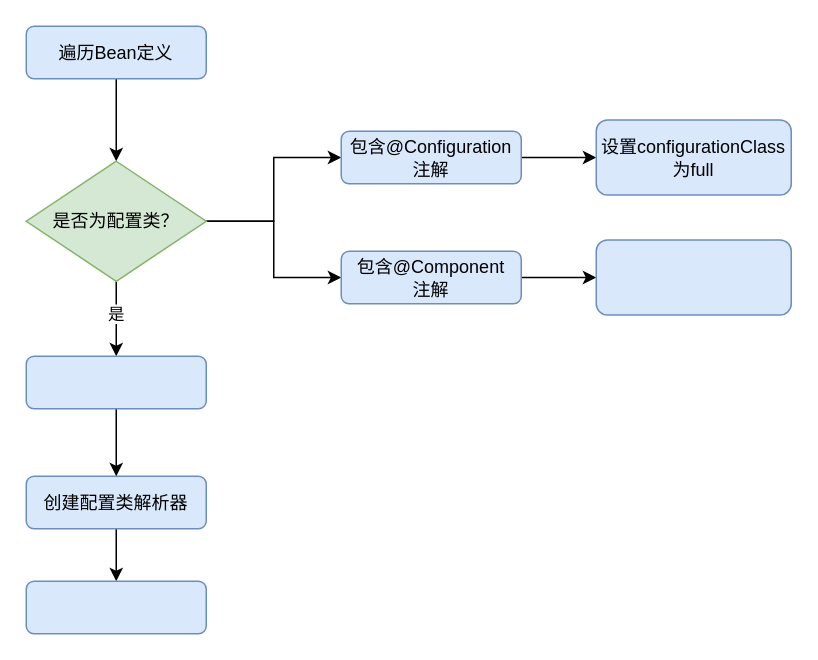
Some shapes in this 818 by 660 pixel diagram are drawn without their labels. Here are the shapes that lost their labels. From the top down, the centre of each, then its label:
At pixel 693 276: "设置configurationClass为lite".
At pixel 115 382: "收集配置类信息".
At pixel 115 607: "调用配置类解析器 解析配置类".
